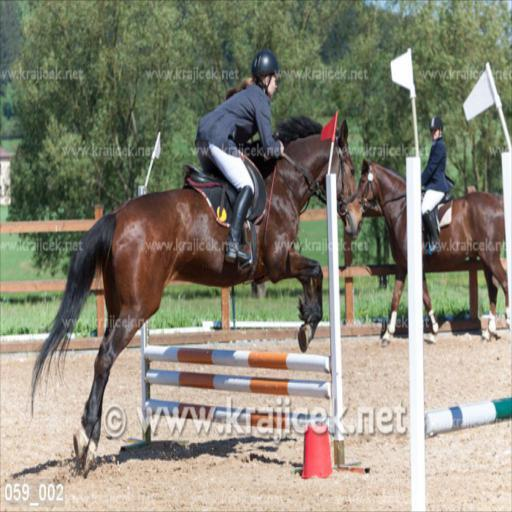horse: (24, 112, 362, 482), (353, 158, 511, 354)
